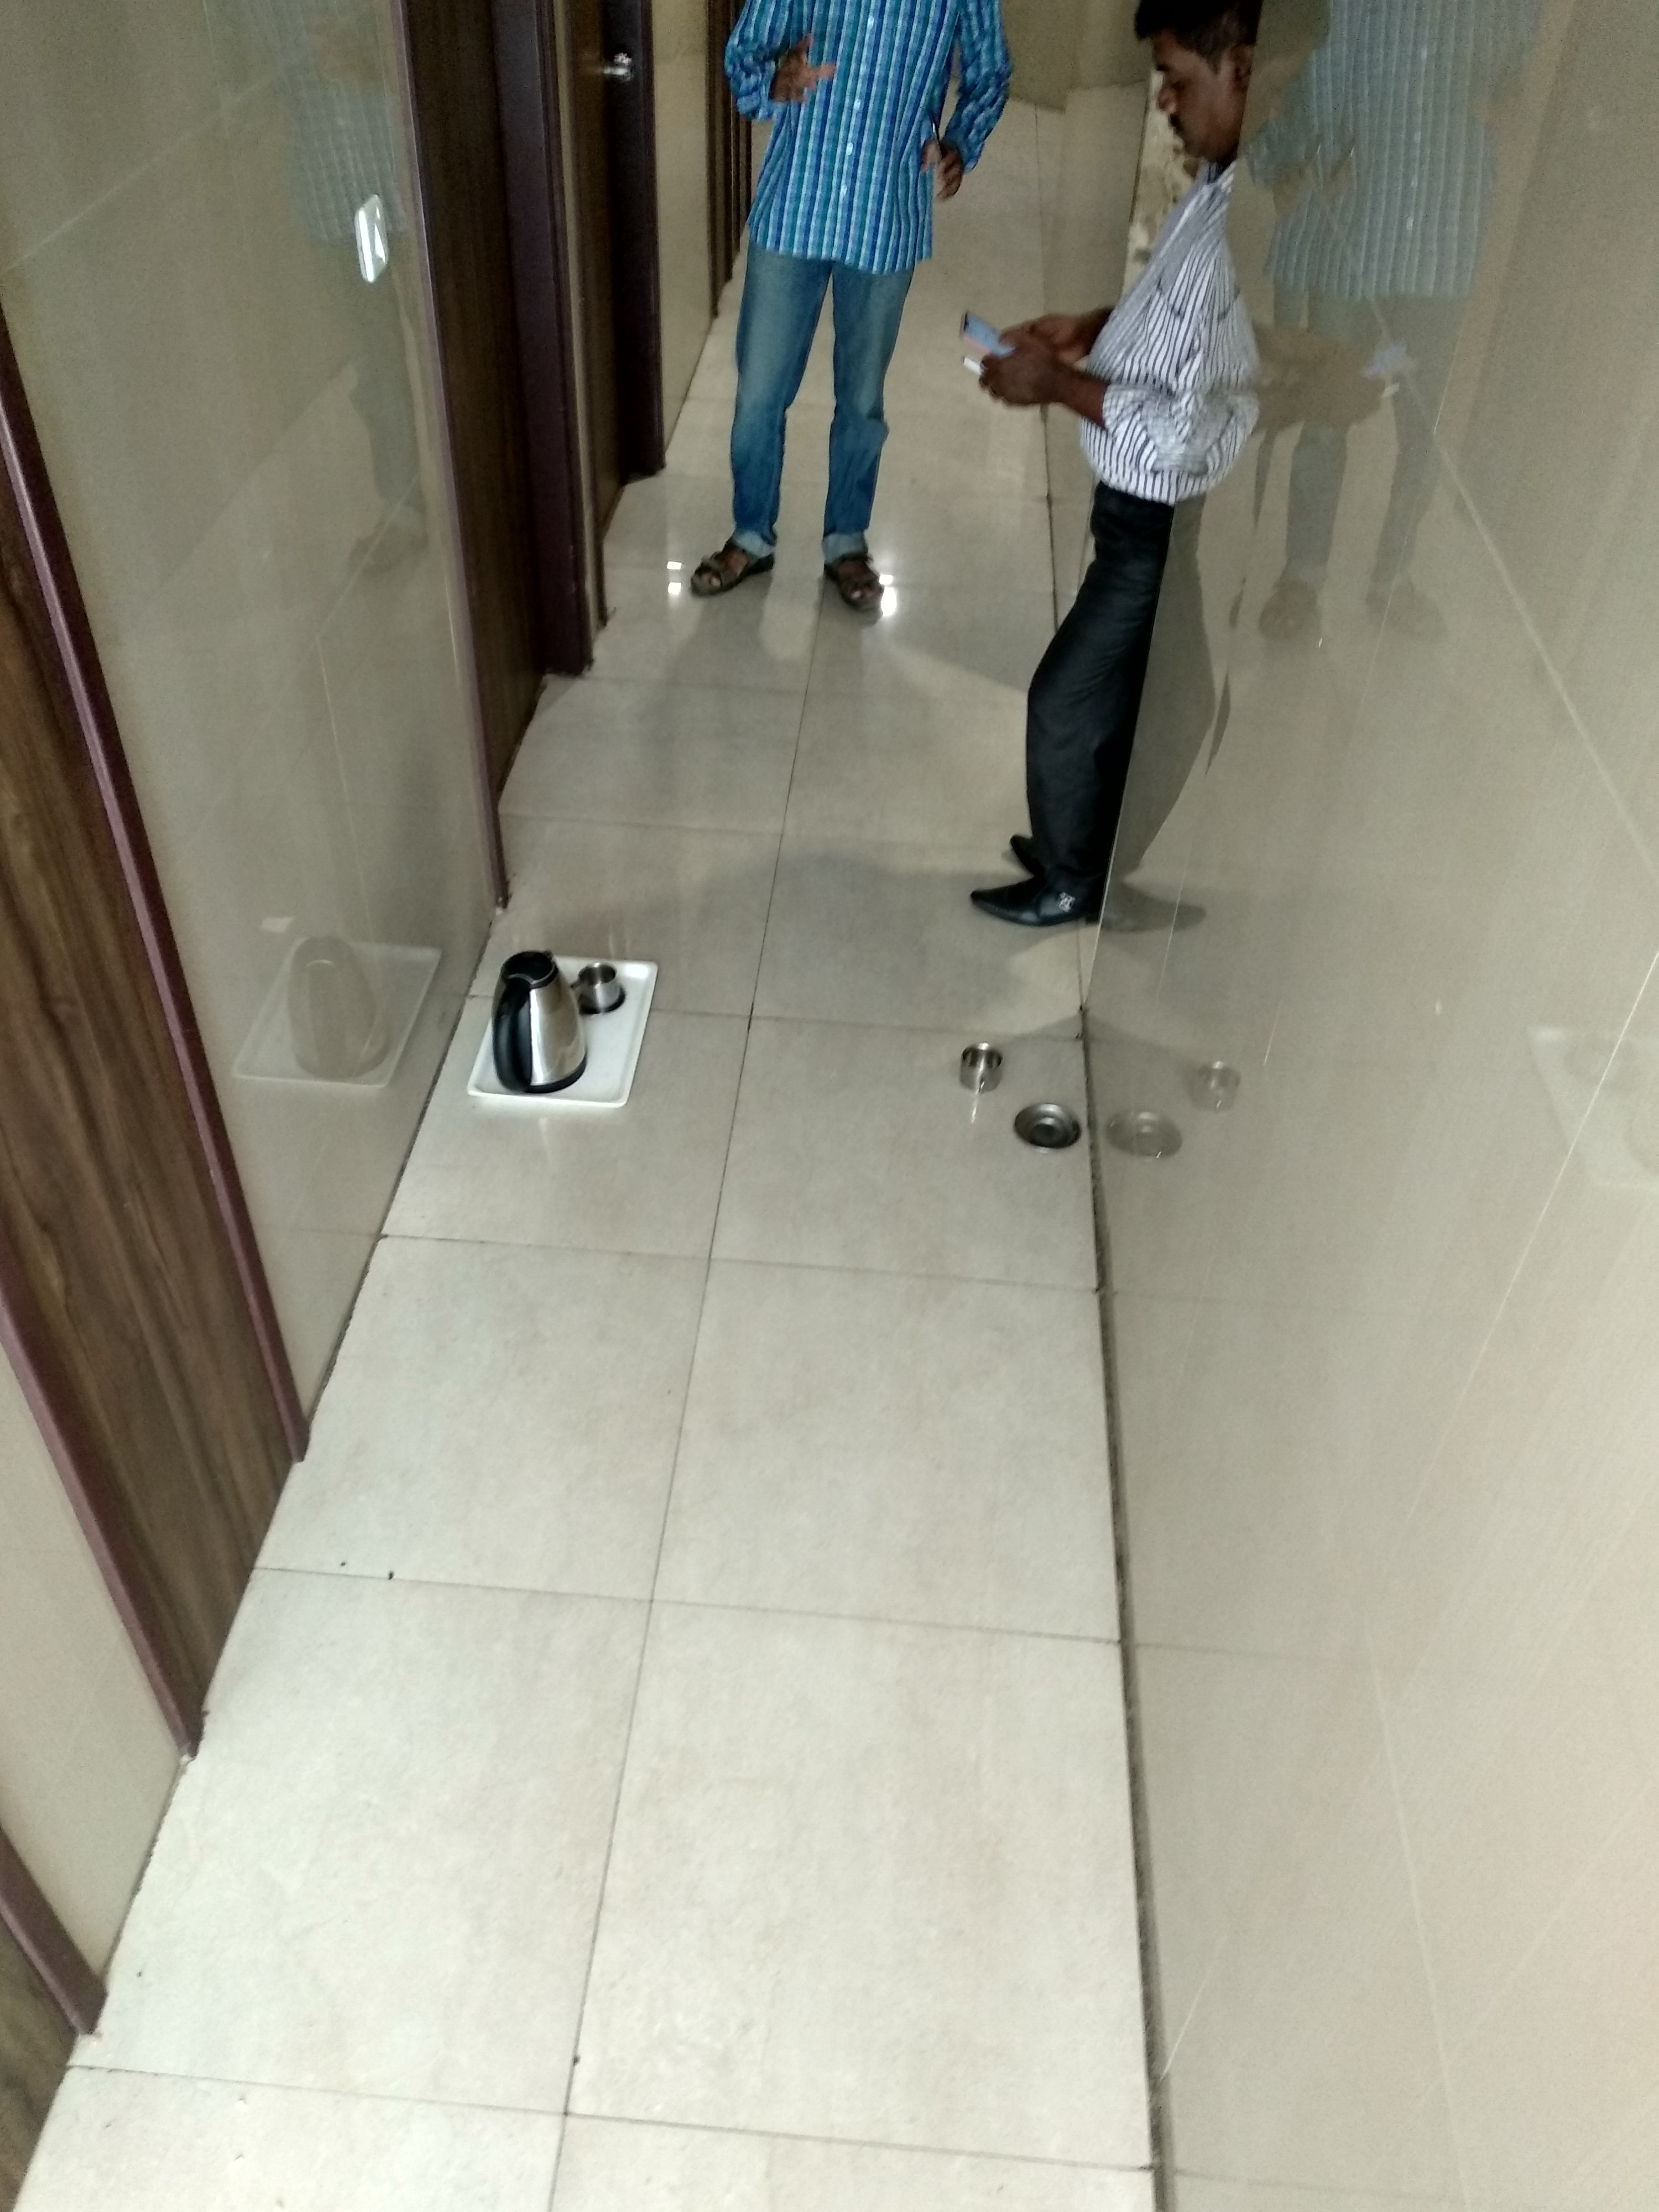CUP: (951, 1042, 1007, 1096), (579, 960, 620, 1007)
FLASK: (504, 951, 582, 1099)
